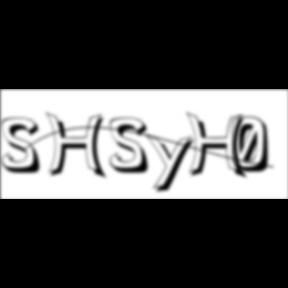0: (232, 115, 278, 174)
H: (46, 112, 112, 182), (186, 112, 252, 182)
S: (1, 117, 47, 176), (110, 117, 156, 176)
y: (146, 132, 200, 196)
